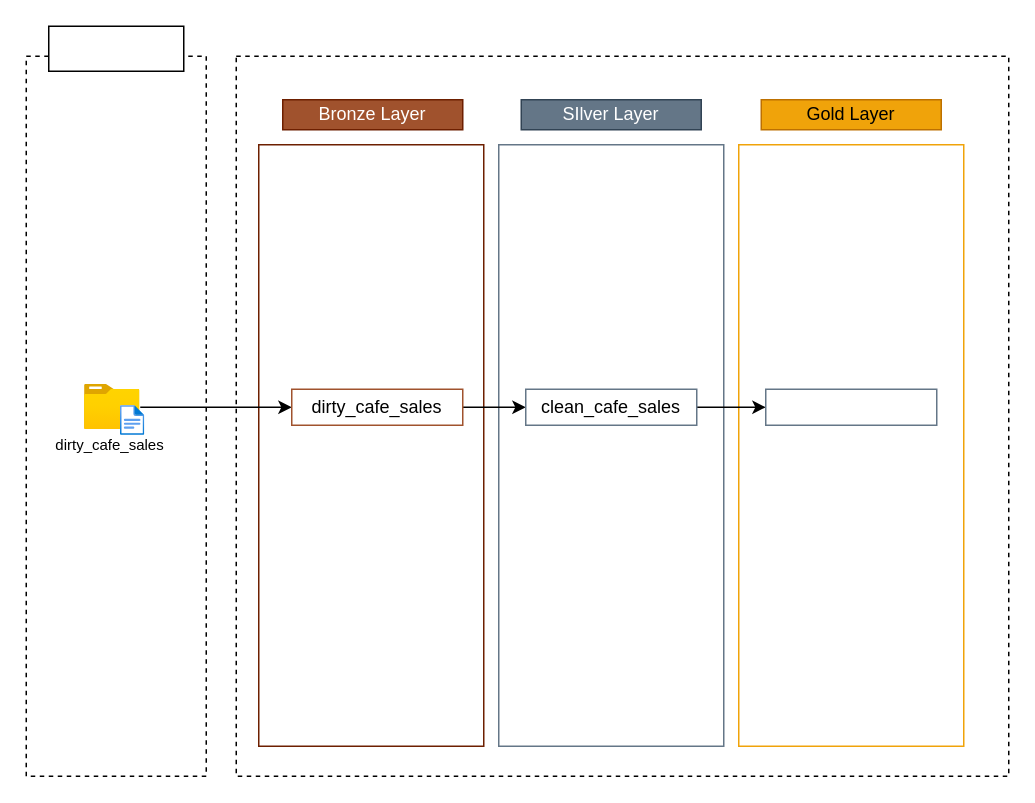
This 1035x803 diagram has some shape labels left out. The shapes that lost their labels are listed below. From the top down, each one's centre as x and y in pixels, then its label:
point 115,48: Sources
point 850,406: fact_sales
